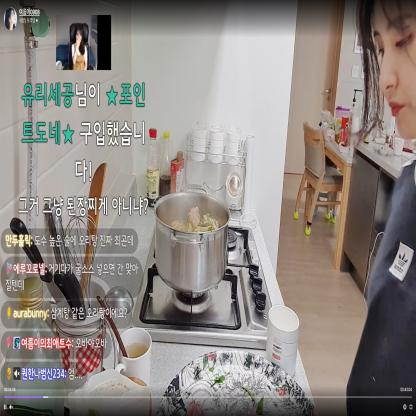donation: (18, 14, 150, 215)
streamer: (346, 0, 416, 416)
